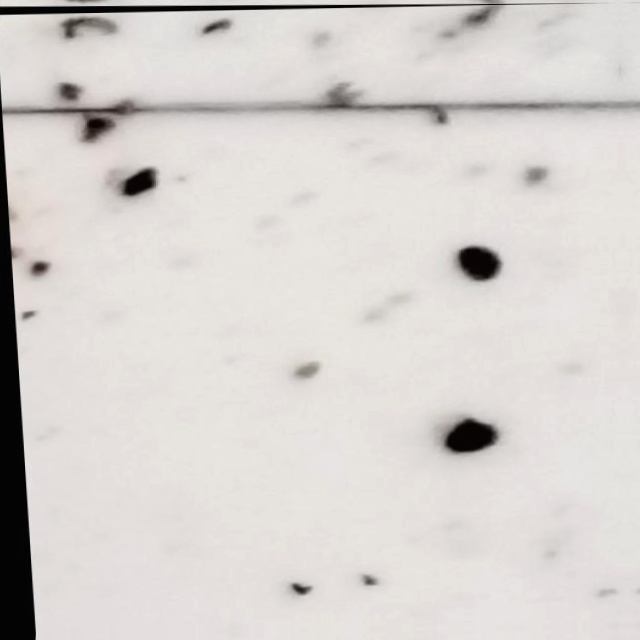varroa: (433, 417, 491, 456), (451, 245, 502, 282)
